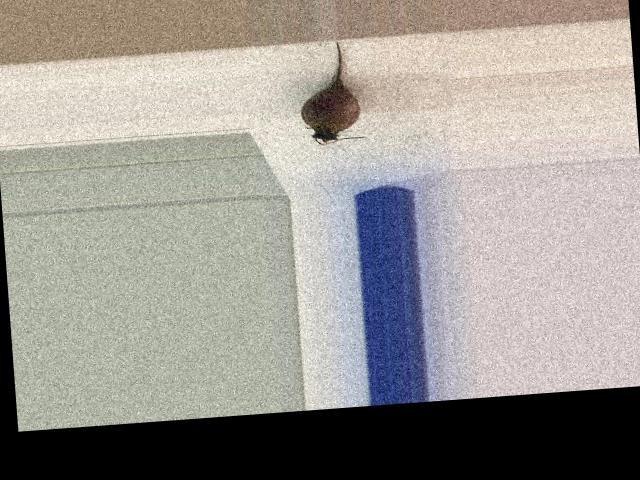beet: (296, 39, 367, 146)
